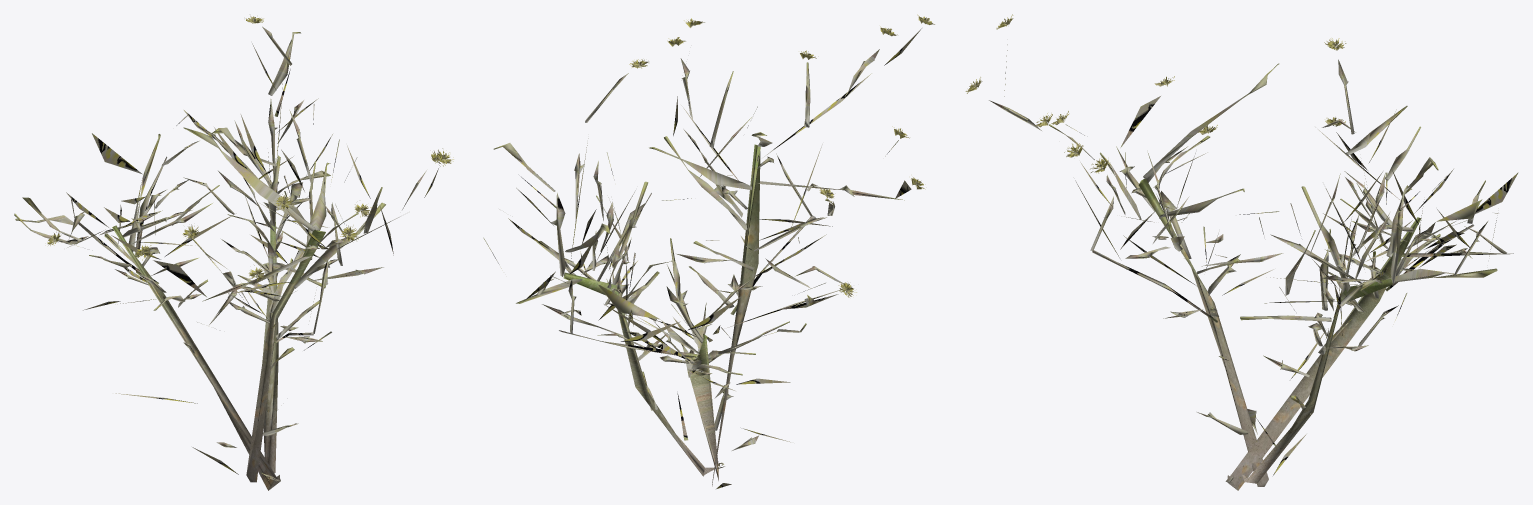
File: didelta_spinosa_v2.glb
The picture shows the model from 3 angles, left to right: view 1: azimuth 30°, elevation 25°; view 2: azimuth 150°, elevation 25°; view 3: azimuth 270°, elevation 25°; orthographic projection. The views are drawn at different scales.
Parts seen in each view (by area): view 1: lod0; view 2: lod0; view 3: lod0.
Boxes of the visible parts, x1=… form: lod0: x1=14, y1=16, x2=453, y2=490; lod0: x1=483, y1=14, x2=934, y2=488; lod0: x1=965, y1=14, x2=1518, y2=490.
Size of what is drawn, in the model's own units: 1.01 by 1.28 by 1.38.
Materials: 1 (1 with a texture image).
